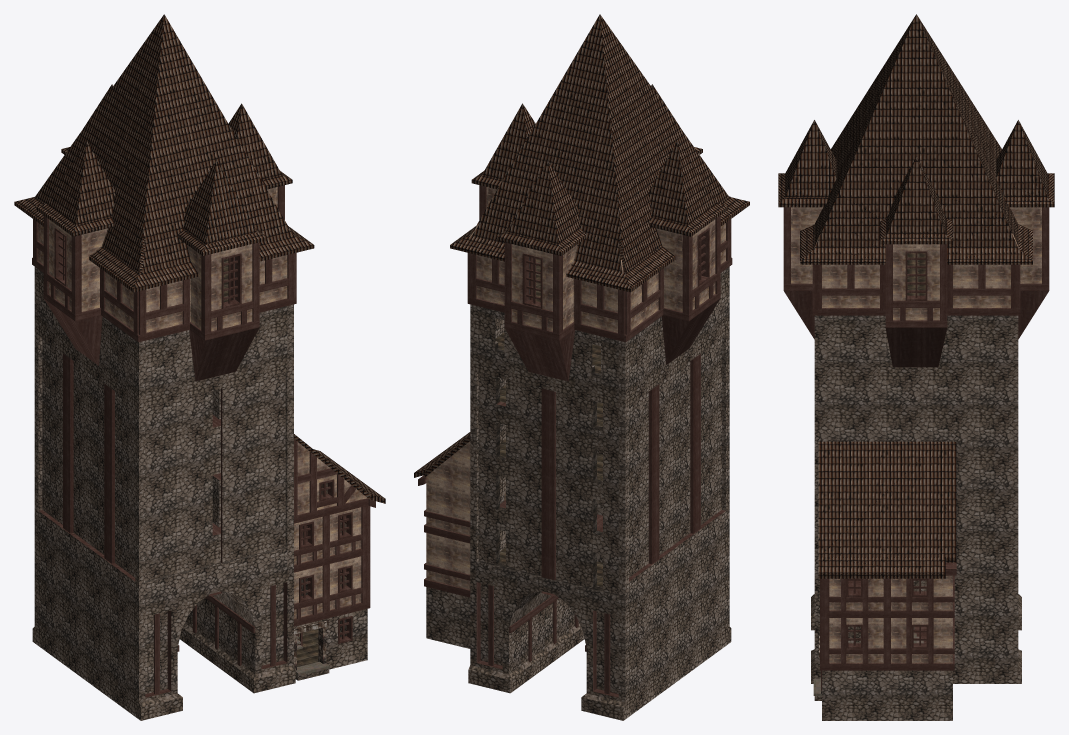
The model's file is prefabs_tower1.glb.
3 views of the same model, side by side, from view 1: azimuth 30°, elevation 25°; view 2: azimuth 150°, elevation 25°; view 3: azimuth 270°, elevation 25° (orthographic). The views are drawn at different scales.
Visible parts, largest first — view 1: tower1; view 2: tower1; view 3: tower1.
Part boxes in pixels (bbox=[...]): tower1: bbox=[14, 14, 385, 720]; tower1: bbox=[414, 14, 749, 720]; tower1: bbox=[778, 14, 1054, 720].
Bounding box in the file's own units: 21.75 × 48 × 19.
11 materials, 11 textured.
